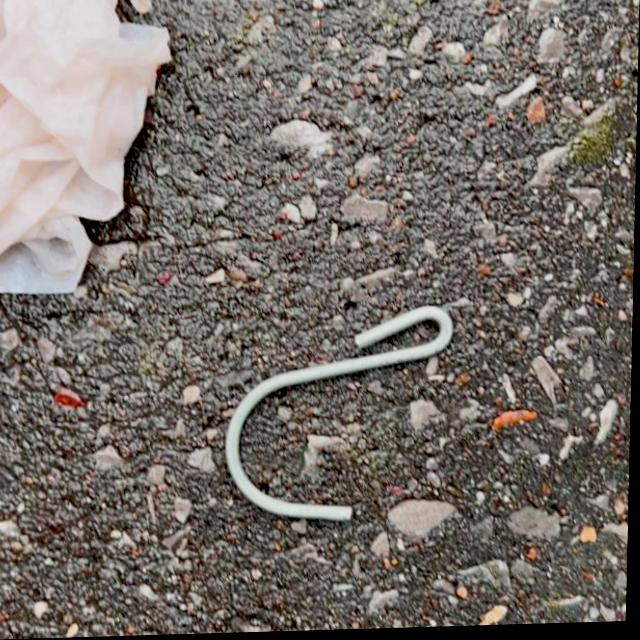Paper: (0, 0, 176, 305)
